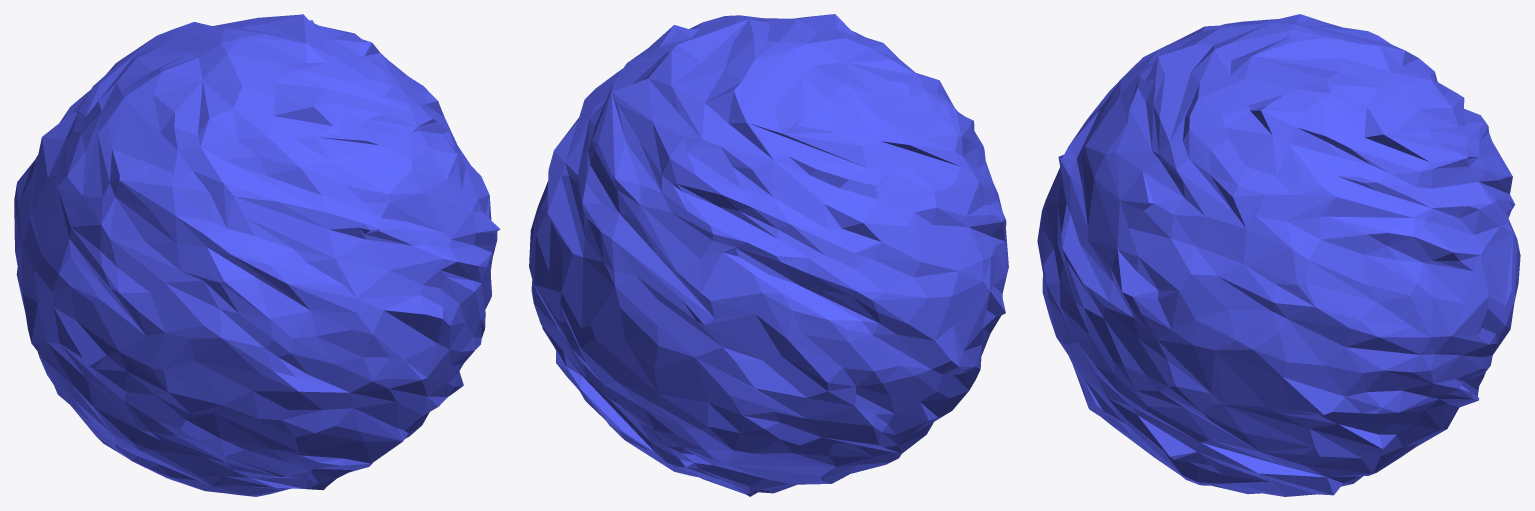
File: neptune.fbx
3 renders of one model, left to right at view 1: azimuth 30°, elevation 25°; view 2: azimuth 150°, elevation 25°; view 3: azimuth 270°, elevation 25°, orthographic.
Visible parts, largest first — view 1: Neptune; view 2: Neptune; view 3: Neptune.
Part boxes in pixels (<box>): Neptune: <box>14,14,500,496</box>; Neptune: <box>529,14,1008,496</box>; Neptune: <box>1037,14,1520,496</box>.
Size of the model in its own units: 89.67 by 89.35 by 89.13.
